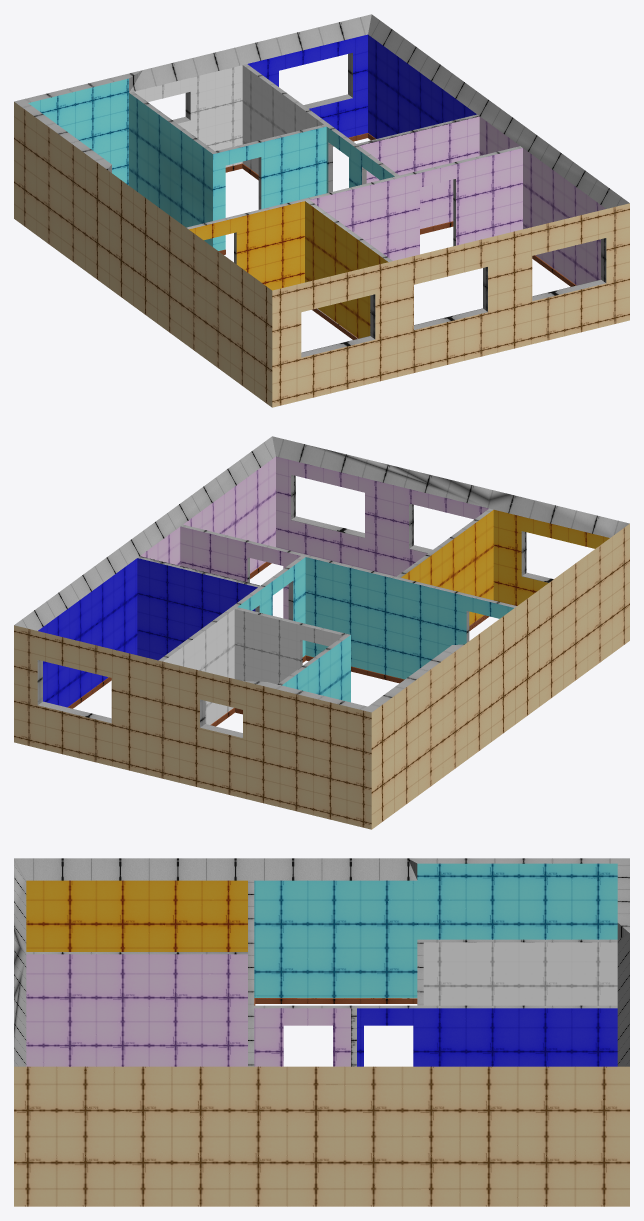
File: Casa_INTERIOR_planta_primera.fbx
The picture shows the model from 3 angles, top to bottom: view 1: azimuth 30°, elevation 25°; view 2: azimuth 150°, elevation 25°; view 3: azimuth 270°, elevation 25°; orthographic projection. The views are drawn at different scales.
Visible parts, largest first — view 1: Casa_INTERIOR_planta_primera; view 2: Casa_INTERIOR_planta_primera; view 3: Casa_INTERIOR_planta_primera.
Part boxes in pixels (box(x1,y1,x2,y2)): Casa_INTERIOR_planta_primera: box(14, 14, 629, 407); Casa_INTERIOR_planta_primera: box(14, 436, 629, 829); Casa_INTERIOR_planta_primera: box(14, 858, 629, 1206).
Bounding box in the file's own units: 10.38 × 3.25 × 12.97.
